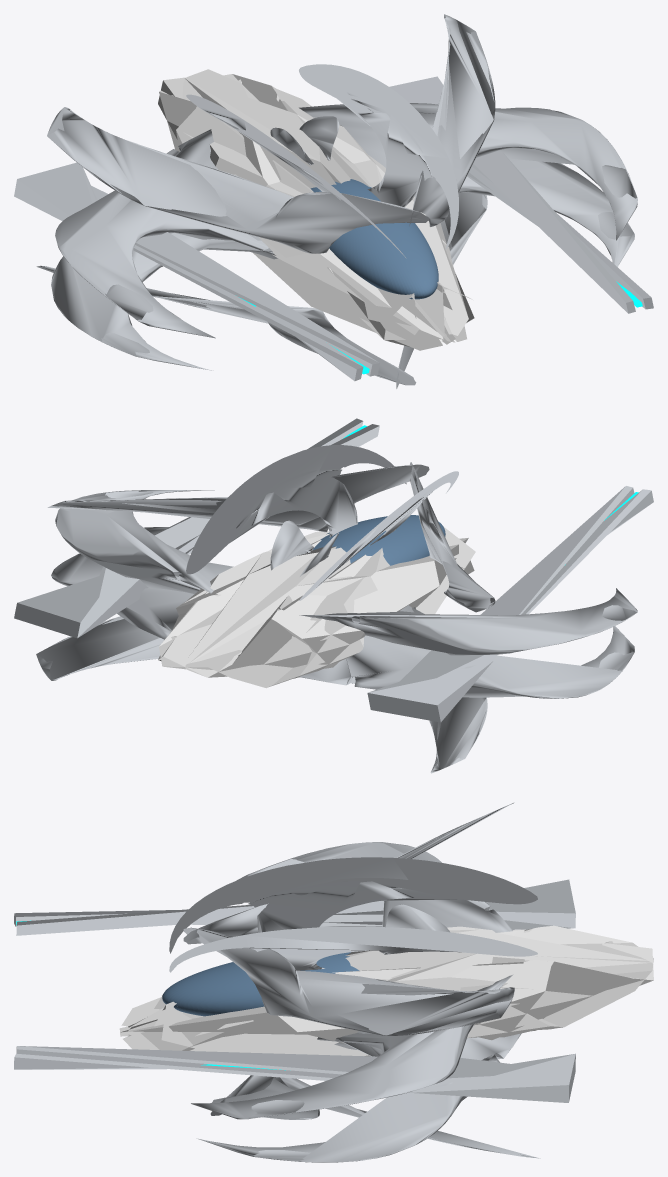
Rendered from Enemy007.glb.
The picture shows the model from 3 angles, top to bottom: view 1: azimuth 30°, elevation 25°; view 2: azimuth 150°, elevation 25°; view 3: azimuth 270°, elevation 25°; orthographic projection.
Visible parts, largest first — view 1: assembly_wing_r, assembly_subwing_r, assembly_fuselage, assembly_wing_weapon_r, assembly_tail_r, assembly_canopy; view 2: assembly_wing_r, assembly_fuselage, assembly_wing_weapon_r, assembly_subwing_r, assembly_tail_r, assembly_canopy; view 3: assembly_fuselage, assembly_tail_r, assembly_wing_r, assembly_wing_weapon_r, assembly_subwing_r, assembly_canopy.
Boxes of the visible parts, box(x1,y1,x2,y2) form: assembly_wing_r: box(51, 103, 637, 370); assembly_subwing_r: box(36, 14, 495, 388); assembly_fuselage: box(158, 69, 474, 350); assembly_wing_weapon_r: box(14, 76, 653, 381); assembly_tail_r: box(186, 64, 458, 258); assembly_canopy: box(310, 179, 438, 299); assembly_wing_r: box(51, 490, 637, 698); assembly_fuselage: box(158, 526, 475, 688); assembly_wing_weapon_r: box(14, 418, 653, 722); assembly_subwing_r: box(36, 462, 495, 773); assembly_tail_r: box(186, 445, 458, 600); assembly_canopy: box(313, 515, 445, 565); assembly_fuselage: box(119, 925, 653, 1056); assembly_tail_r: box(169, 857, 537, 972); assembly_wing_r: box(191, 842, 521, 1162); assembly_wing_weapon_r: box(14, 879, 575, 1102); assembly_subwing_r: box(183, 802, 540, 1158); assembly_canopy: box(162, 952, 359, 1016).
Bounding box in the file's own units: 4.35 × 1.72 × 4.51.
